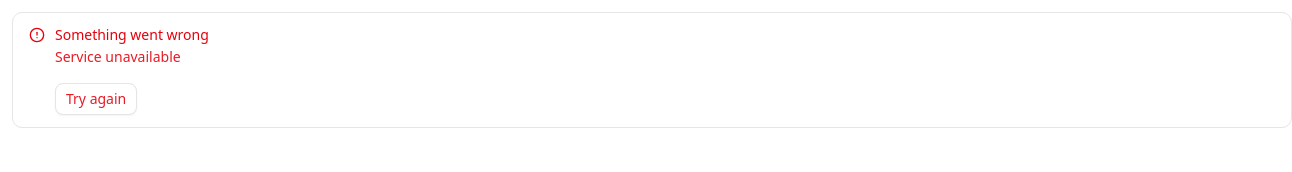
Test: RouteError › runs the loader again on "Try again"
This screenshot has width=1292, height=172.
Expected: the message shows "Service unavailable", [55,47,181,66]
Click the button "Try again" at (96, 99), box [55,83,137,115]
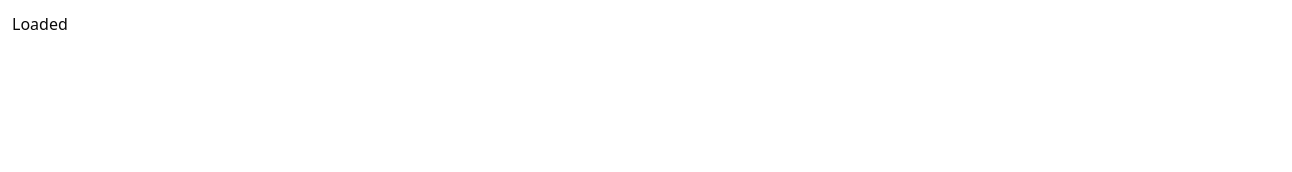
Now the text "Loaded" is shown, box [12,13,68,35]
